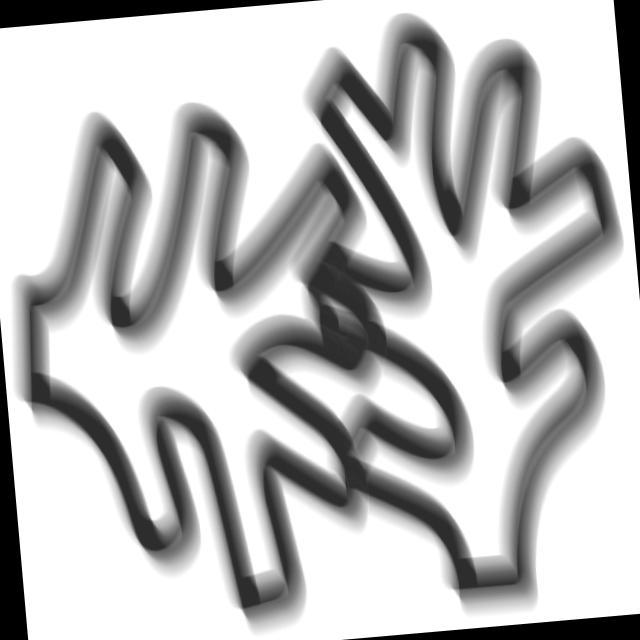coral: (1, 78, 415, 640), (274, 1, 640, 631)
